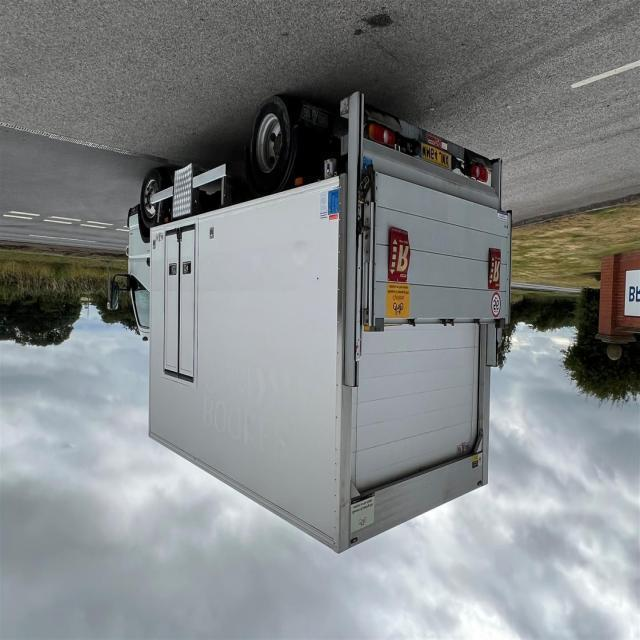truck: (106, 89, 512, 556)
